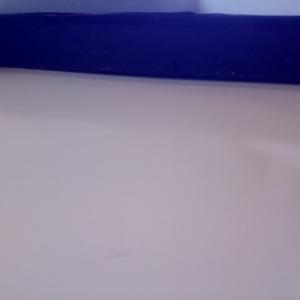zone: (1, 12, 300, 85)
